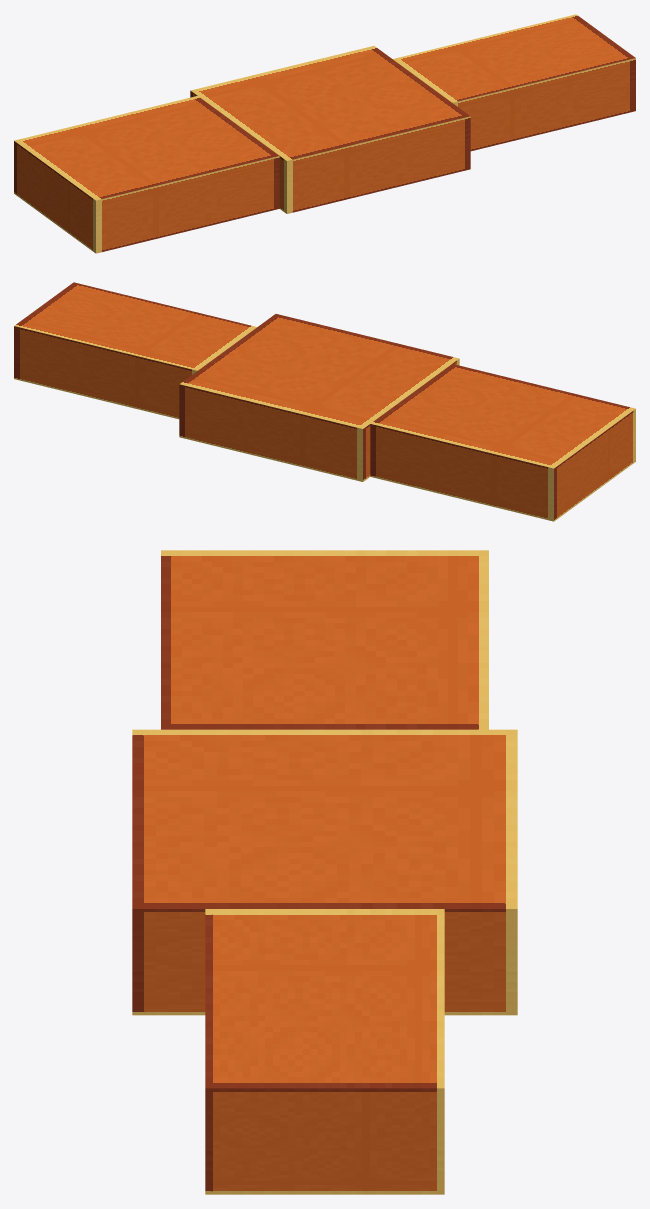
Rendered from bench_xuantie_sword_0_hot.obj.
3 views of the same model, one above another, from view 1: azimuth 30°, elevation 25°; view 2: azimuth 150°, elevation 25°; view 3: azimuth 270°, elevation 25° (orthographic). The views are drawn at different scales.
Parts seen in each view (by area): view 1: geometry; view 2: geometry; view 3: geometry.
Part boxes in pixels (bbox=[...]): geometry: bbox=[14, 14, 635, 253]; geometry: bbox=[14, 282, 635, 521]; geometry: bbox=[132, 550, 517, 1194].
Size of the model in its own units: 0.75 by 0.069 by 0.2272.
